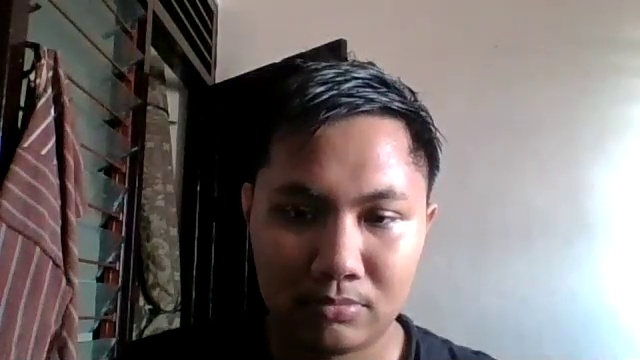Distracted: (232, 108, 437, 345)
